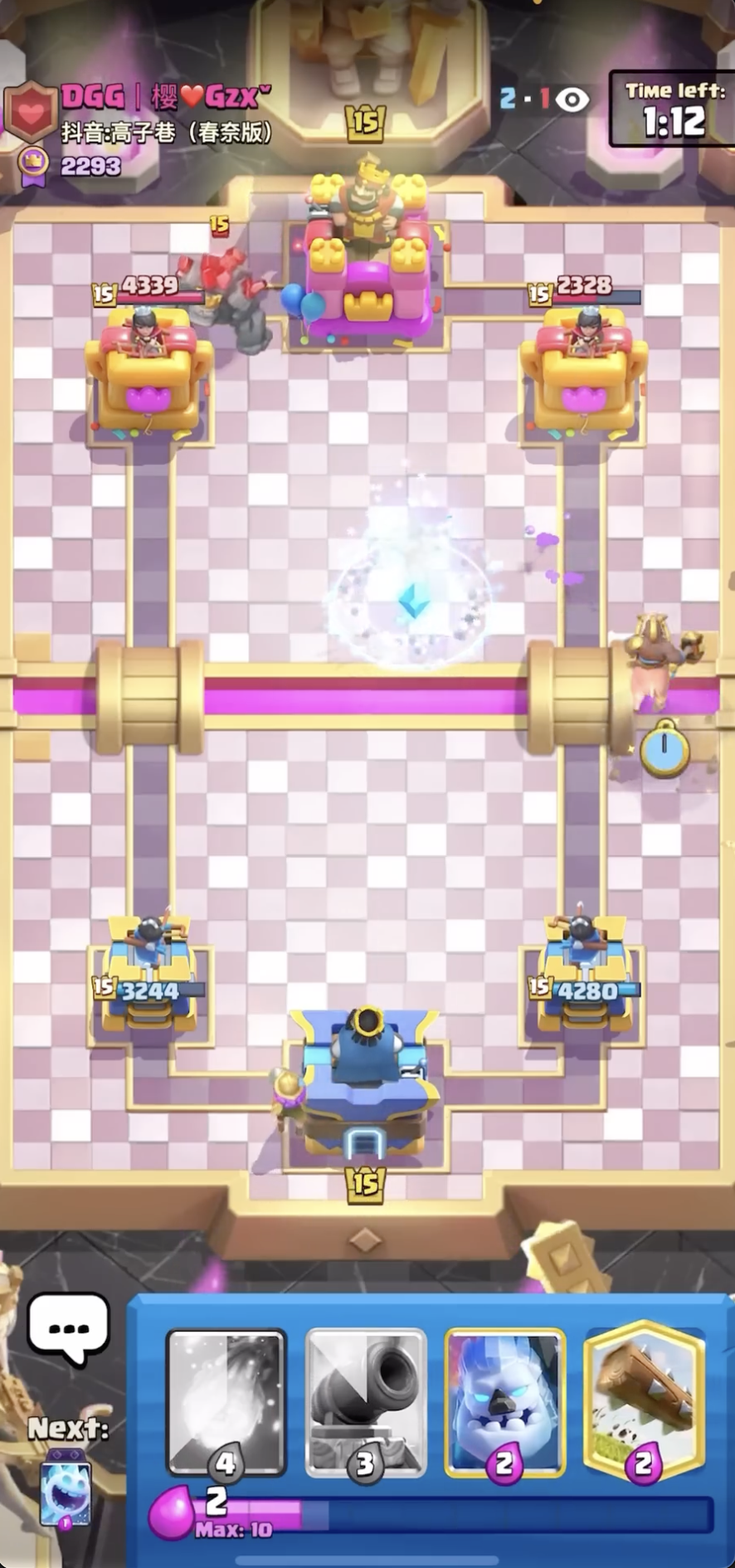hog-rider: (605, 591, 711, 739)
